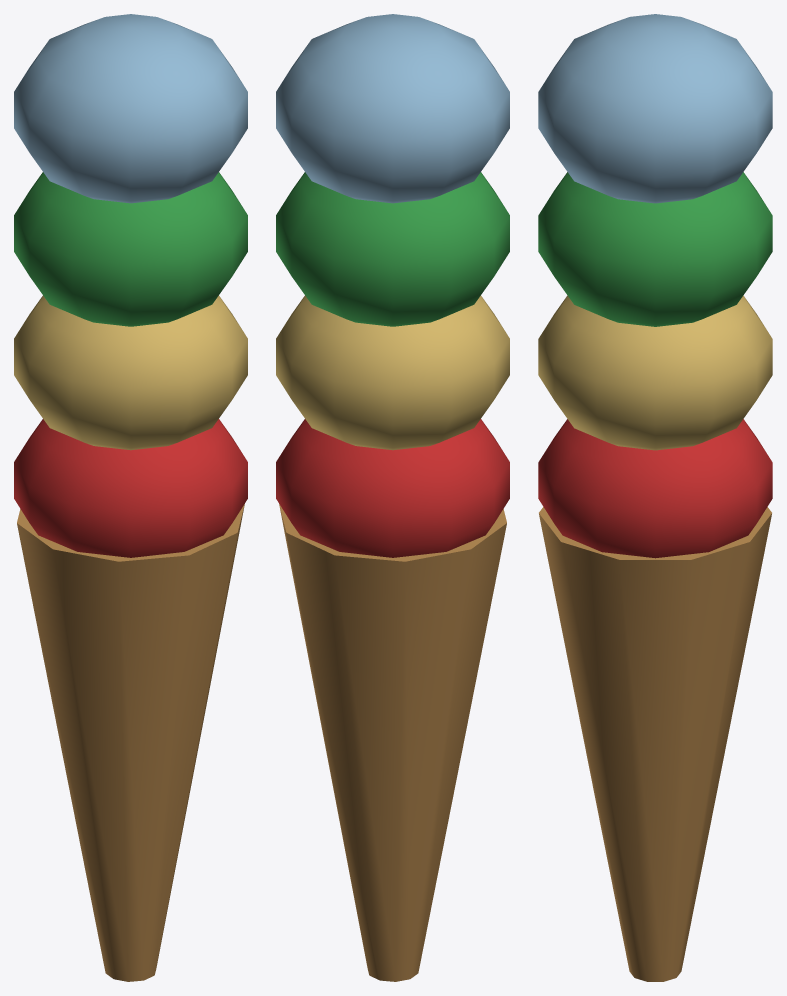
The model's file is item_icecream.glb.
3 views of the same model, side by side, from view 1: azimuth 30°, elevation 25°; view 2: azimuth 150°, elevation 25°; view 3: azimuth 270°, elevation 25° (orthographic).
Parts seen in each view (by area): view 1: item_icecream; view 2: item_icecream; view 3: item_icecream.
Part boxes in pixels (x1=…): item_icecream: x1=14, y1=14, x2=247, y2=981; item_icecream: x1=276, y1=14, x2=509, y2=981; item_icecream: x1=538, y1=14, x2=772, y2=981.
Size of the model in its own units: 0.0721 by 0.321 by 0.0721.
